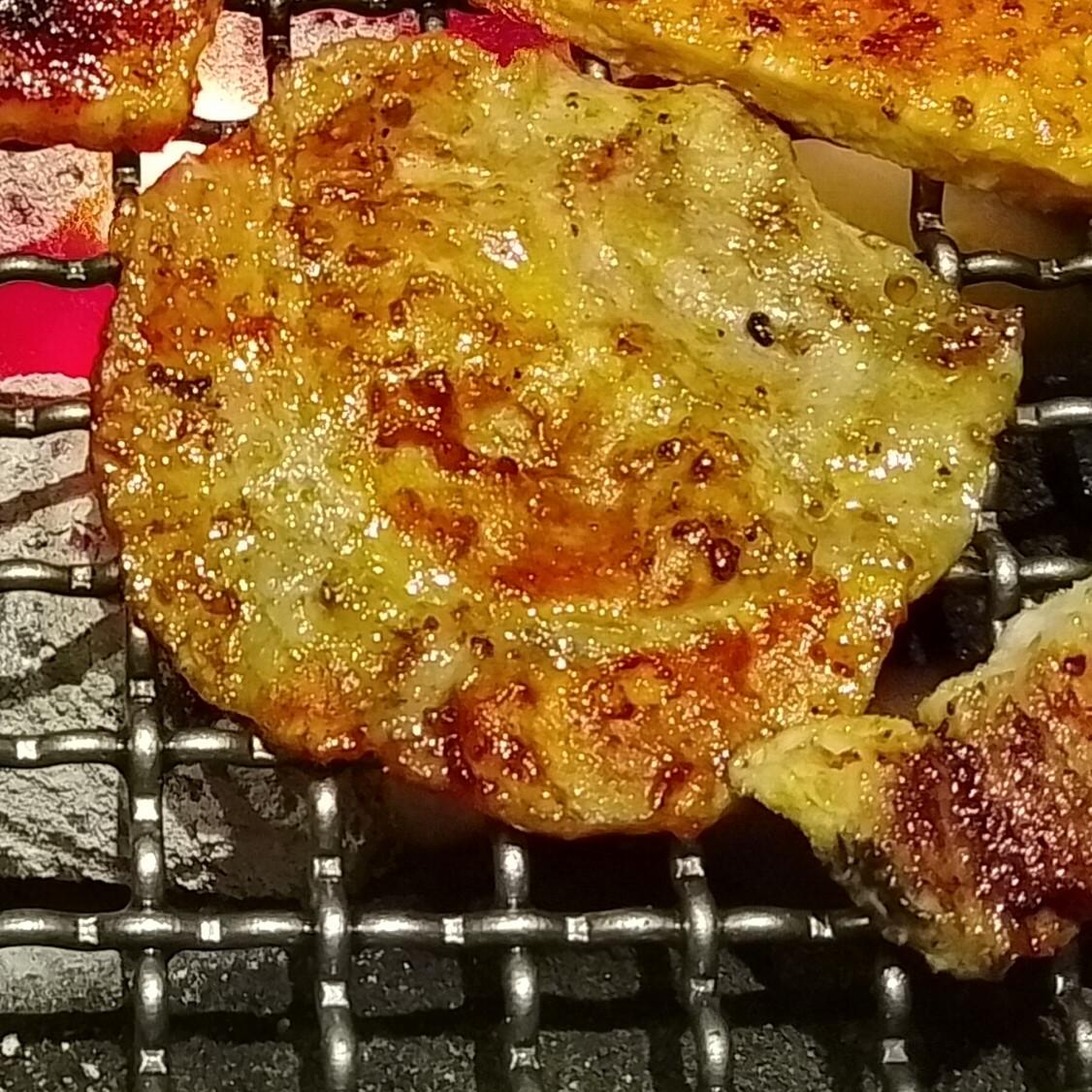Well-Cooked: (95, 34, 1020, 836)
